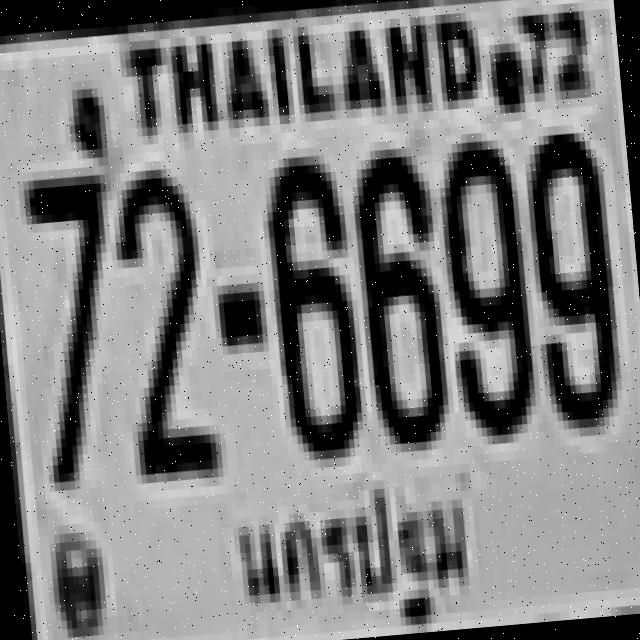2: (107, 162, 216, 480)
6: (256, 146, 360, 454), (348, 137, 446, 446)
7: (16, 165, 126, 482)
9: (432, 130, 534, 430), (522, 122, 619, 422)
NakhonPathom: (224, 474, 482, 640)
